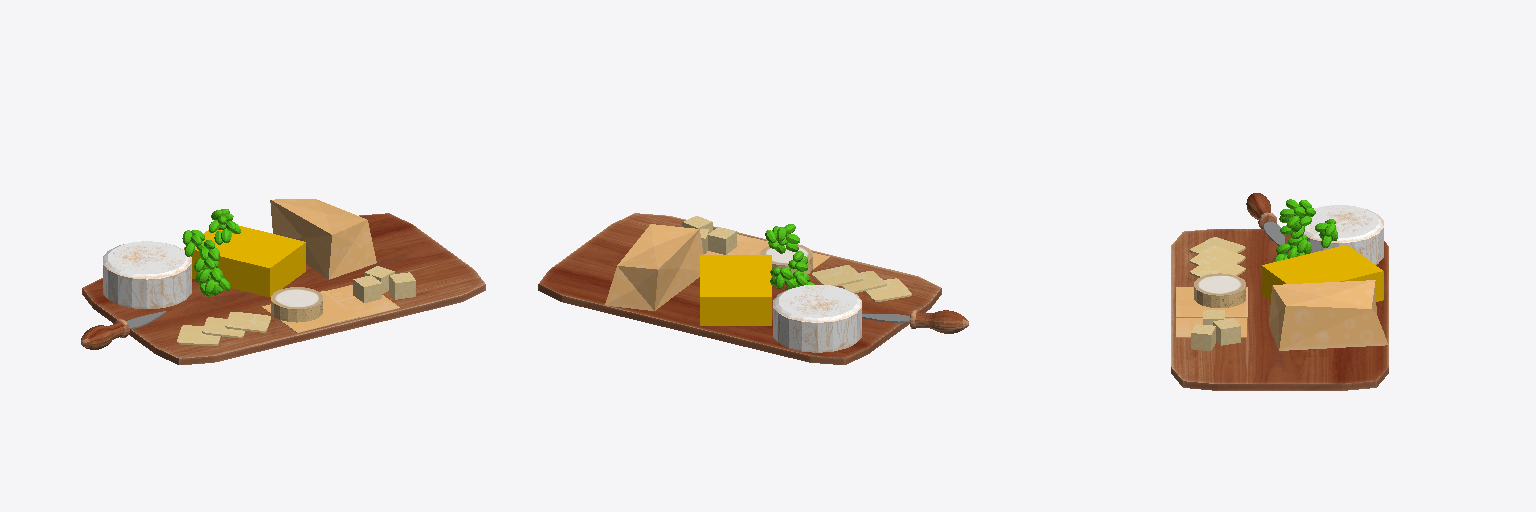
3 views of the same model, side by side, from view 1: azimuth 30°, elevation 25°; view 2: azimuth 150°, elevation 25°; view 3: azimuth 270°, elevation 25° (orthographic).
Visible parts, largest first — view 1: board_low_, cheese_holes_low_, Cheese_goat2_low_, Cheese_blue_low_, Goatcheese_low_, cheeseslice2_low_, cheeseslice1_low_, handle_low_, Buiscit_low_002, cheesecube_low_, Buiscit_low_004, cheesecube_low_002 (+1 smaller); view 2: board_low_, cheese_holes_low_, Cheese_goat2_low_, Cheese_blue_low_, handle_low_, Buiscit_low_002, cheesecube_low_, Buiscit_low_004, Goatcheese_low_; view 3: board_low_, cheese_holes_low_, Cheese_blue_low_, Cheese_goat2_low_, Goatcheese_low_, cheeseslice2_low_, Buiscit_low_002, handle_low_, cheesecube_low_001, cheesecube_low_002, Buiscit_low_003, cheeseslice1_low_.
Boxes of the visible parts, x1=… form: board_low_: x1=82, y1=213, x2=485, y2=364; cheese_holes_low_: x1=270, y1=199, x2=376, y2=279; Cheese_goat2_low_: x1=103, y1=241, x2=191, y2=308; Cheese_blue_low_: x1=184, y1=225, x2=305, y2=297; Goatcheese_low_: x1=271, y1=287, x2=322, y2=322; cheeseslice2_low_: x1=262, y1=291, x2=359, y2=332; cheeseslice1_low_: x1=326, y1=285, x2=399, y2=323; handle_low_: x1=81, y1=319, x2=129, y2=349; Buiscit_low_002: x1=225, y1=312, x2=270, y2=332; cheesecube_low_: x1=353, y1=275, x2=381, y2=302; Buiscit_low_004: x1=177, y1=325, x2=220, y2=345; cheesecube_low_002: x1=389, y1=272, x2=415, y2=299; board_low_: x1=538, y1=213, x2=941, y2=364; cheese_holes_low_: x1=605, y1=224, x2=703, y2=310; Cheese_goat2_low_: x1=773, y1=285, x2=861, y2=352; Cheese_blue_low_: x1=700, y1=255, x2=771, y2=325; handle_low_: x1=910, y1=310, x2=968, y2=333; Buiscit_low_002: x1=812, y1=265, x2=862, y2=286; cheesecube_low_: x1=708, y1=227, x2=736, y2=254; Buiscit_low_004: x1=864, y1=278, x2=911, y2=301; Goatcheese_low_: x1=760, y1=244, x2=812, y2=276; board_low_: x1=1171, y1=229, x2=1388, y2=390; cheese_holes_low_: x1=1269, y1=280, x2=1388, y2=350; Cheese_blue_low_: x1=1262, y1=244, x2=1383, y2=301; Cheese_goat2_low_: x1=1304, y1=205, x2=1383, y2=264; Goatcheese_low_: x1=1194, y1=273, x2=1245, y2=307; cheeseslice2_low_: x1=1176, y1=287, x2=1247, y2=317; Buiscit_low_002: x1=1190, y1=257, x2=1245, y2=277; handle_low_: x1=1246, y1=193, x2=1276, y2=228; cheesecube_low_001: x1=1213, y1=318, x2=1240, y2=345; cheesecube_low_002: x1=1191, y1=324, x2=1215, y2=350; Buiscit_low_003: x1=1190, y1=245, x2=1245, y2=265; cheeseslice1_low_: x1=1176, y1=318, x2=1246, y2=337.
Bounding box in the file's own units: 89.1 × 19.74 × 44.79.
Materials: 8 (7 with a texture image).